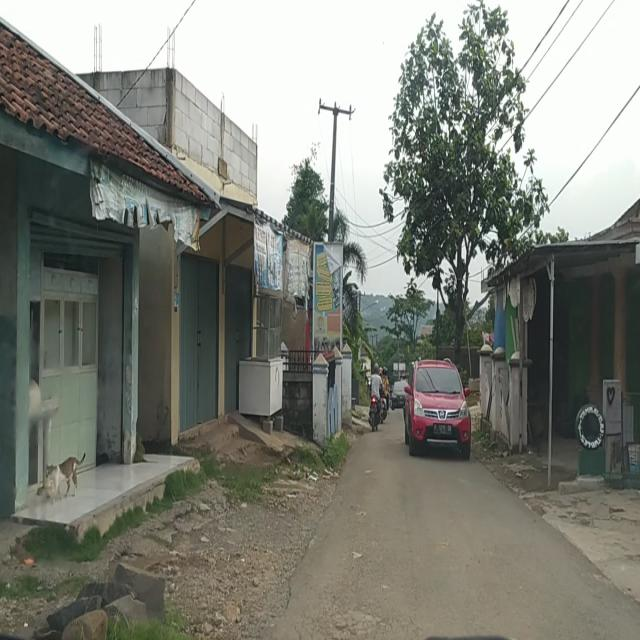Drain Hole: (308, 554, 387, 640)
